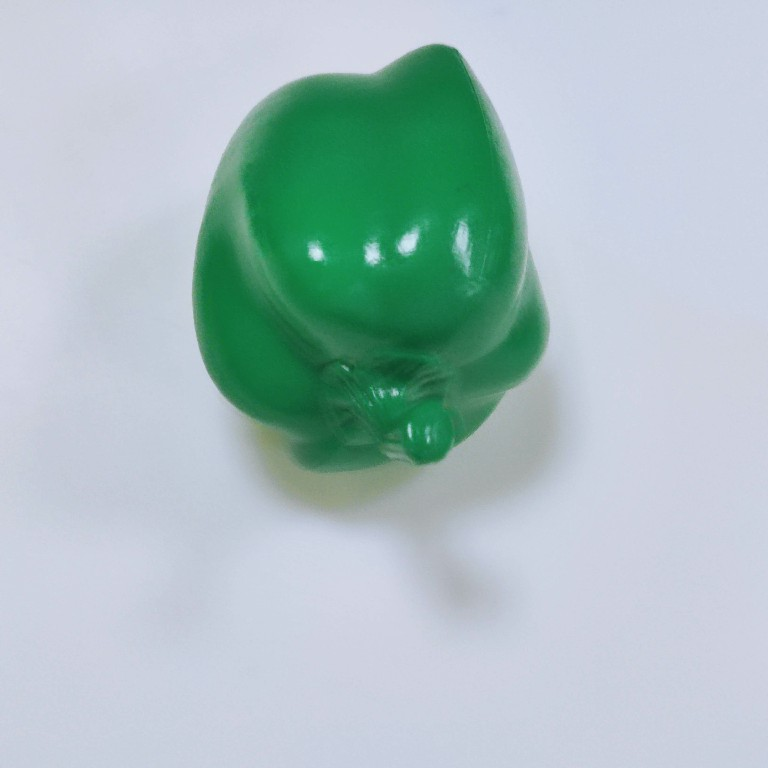fruit_pepper: (190, 42, 553, 476)
